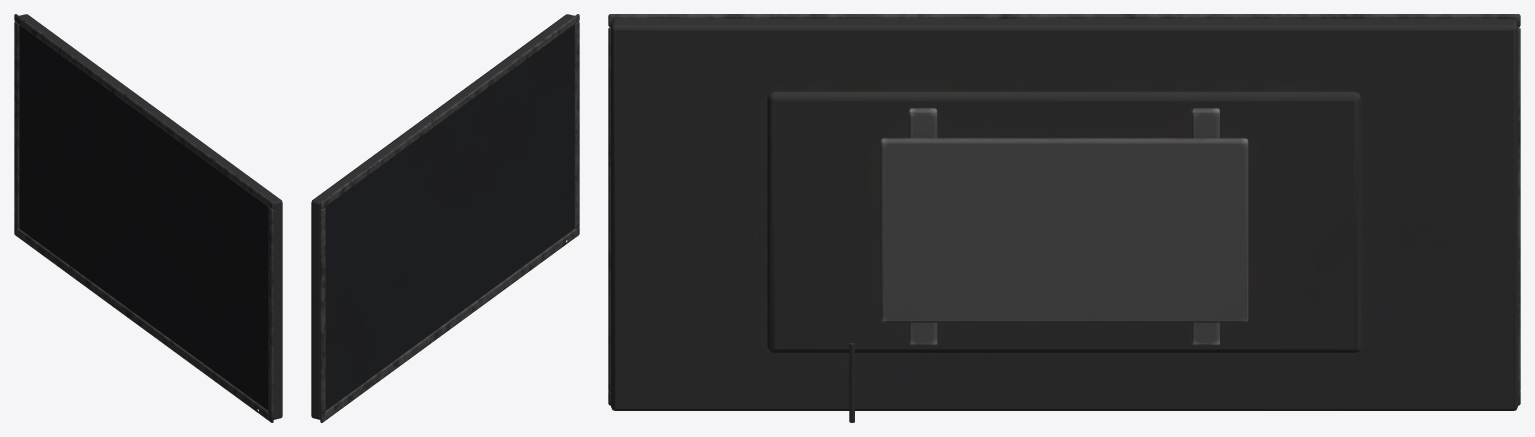
The model's file is PH_PickupBoard.fbx.
The picture shows the model from 3 angles, left to right: view 1: azimuth 30°, elevation 25°; view 2: azimuth 150°, elevation 25°; view 3: azimuth 270°, elevation 25°; orthographic projection. The views are drawn at different scales.
Parts seen in each view (by area): view 1: PH_PickupBoard; view 2: PH_PickupBoard; view 3: PH_PickupBoard.
Part boxes in pixels (x1,y1,x2,y2): PH_PickupBoard: (14, 14, 282, 422); PH_PickupBoard: (311, 14, 579, 422); PH_PickupBoard: (608, 14, 1520, 422).
Size of the model in its own units: 0.0805 by 0.62 by 1.31.
